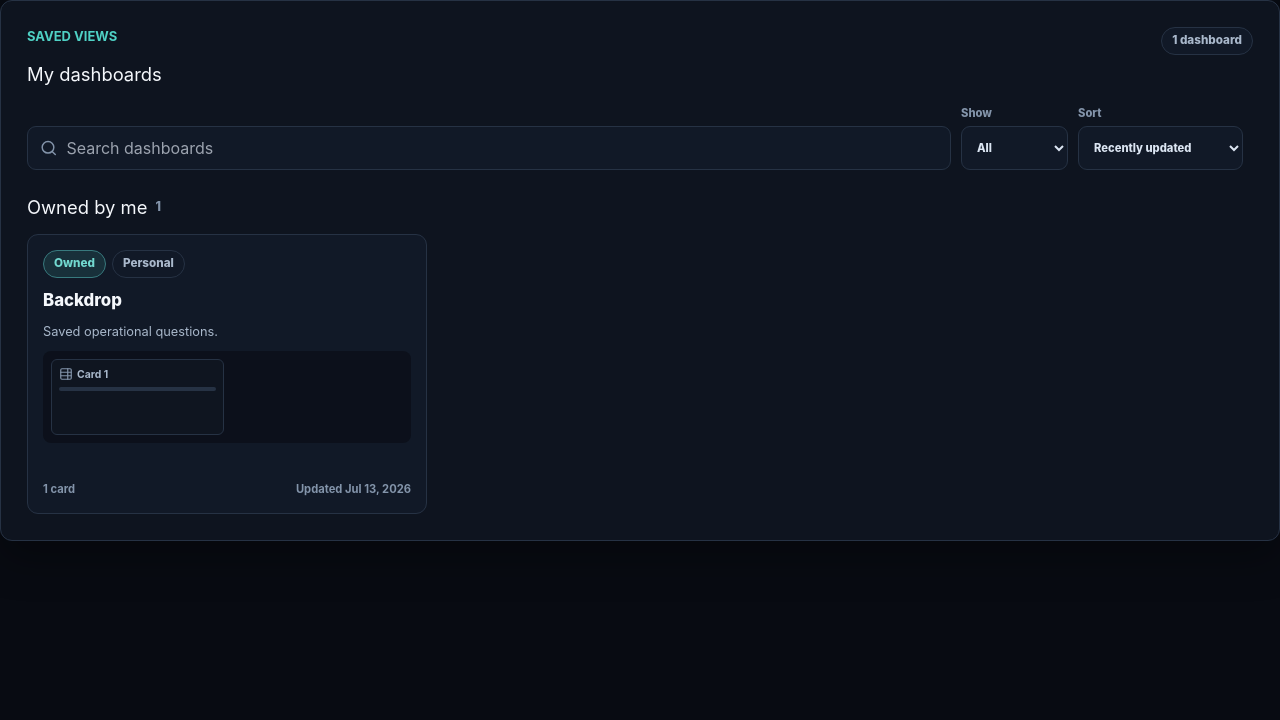
DashboardLibrary › closes from the backdrop and retains mobile dialog hooks
Click the button with aria-label "Preview dashboard Backdrop" at (227, 374), box x1=27 y1=234 x2=427 y2=514
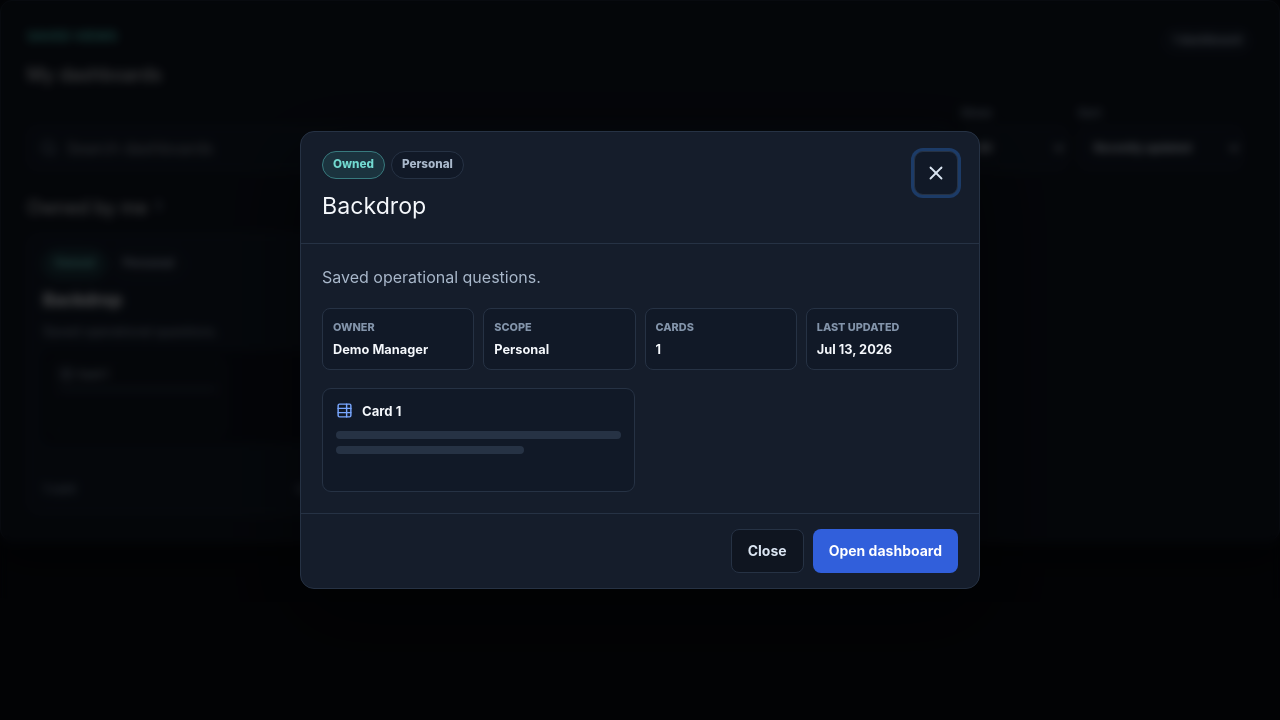
Press the mouse on the element that starts with "Owned" at (640, 360), box x1=0 y1=0 x2=1279 y2=719
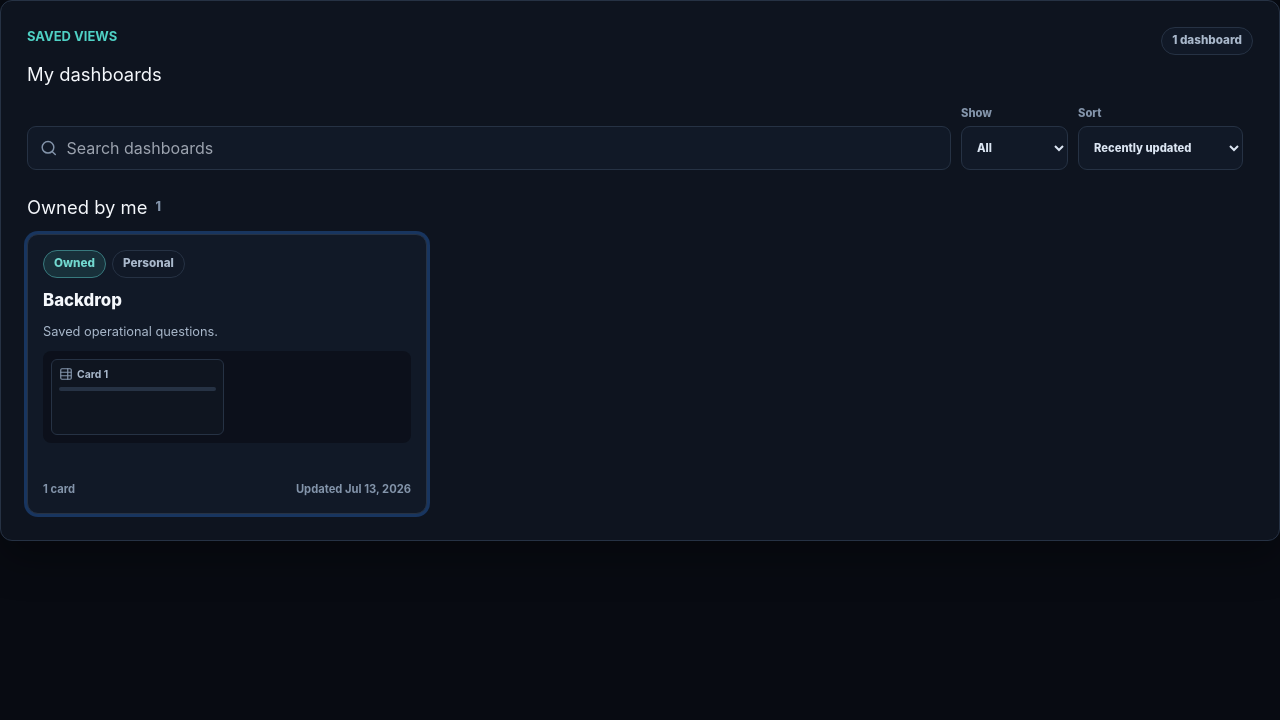
Now the dialog is gone
